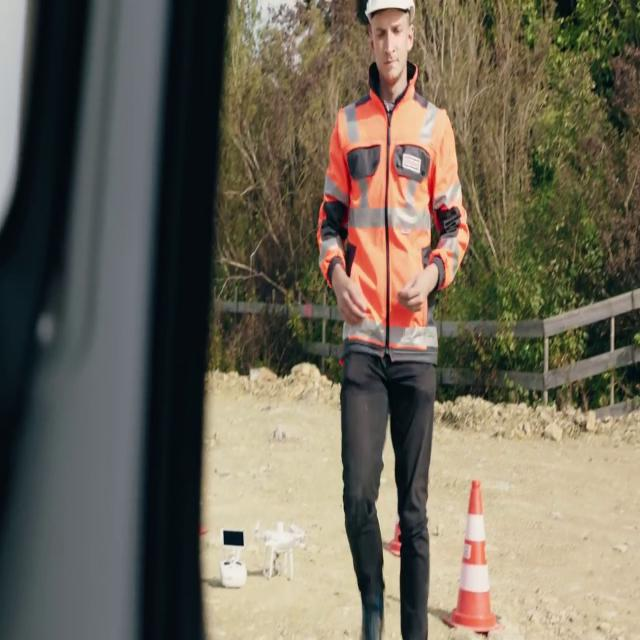drone: (252, 520, 308, 582)
